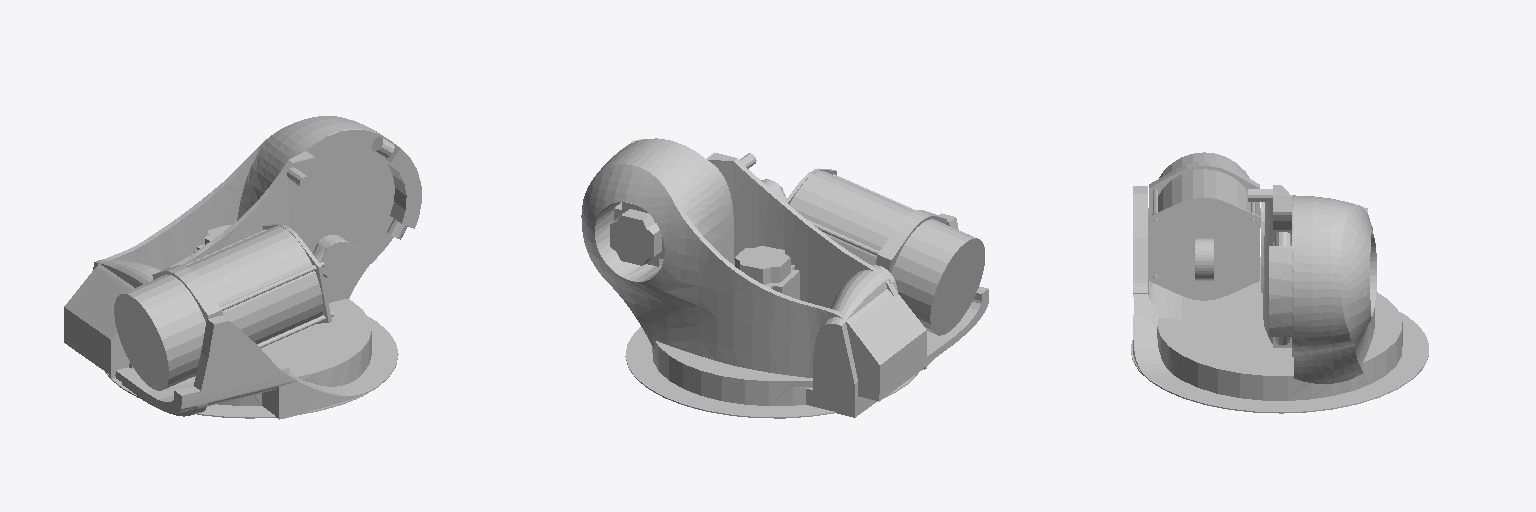
The model's file is robot_kuka_arm_link_1_kuka_arm_link_1_visuals_mesh.obj.
3 renders of one model, left to right at view 1: azimuth 30°, elevation 25°; view 2: azimuth 150°, elevation 25°; view 3: azimuth 270°, elevation 25°, orthographic.
Bounding box in the file's own units: 1.14 × 0.664 × 0.9193.